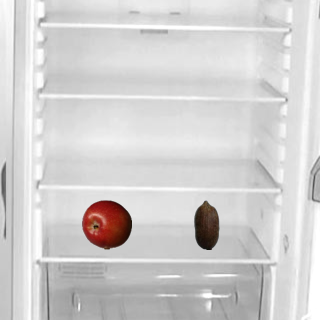Apple Braeburn: (81, 199, 131, 249)
Nut Pecan: (181, 199, 231, 249)
